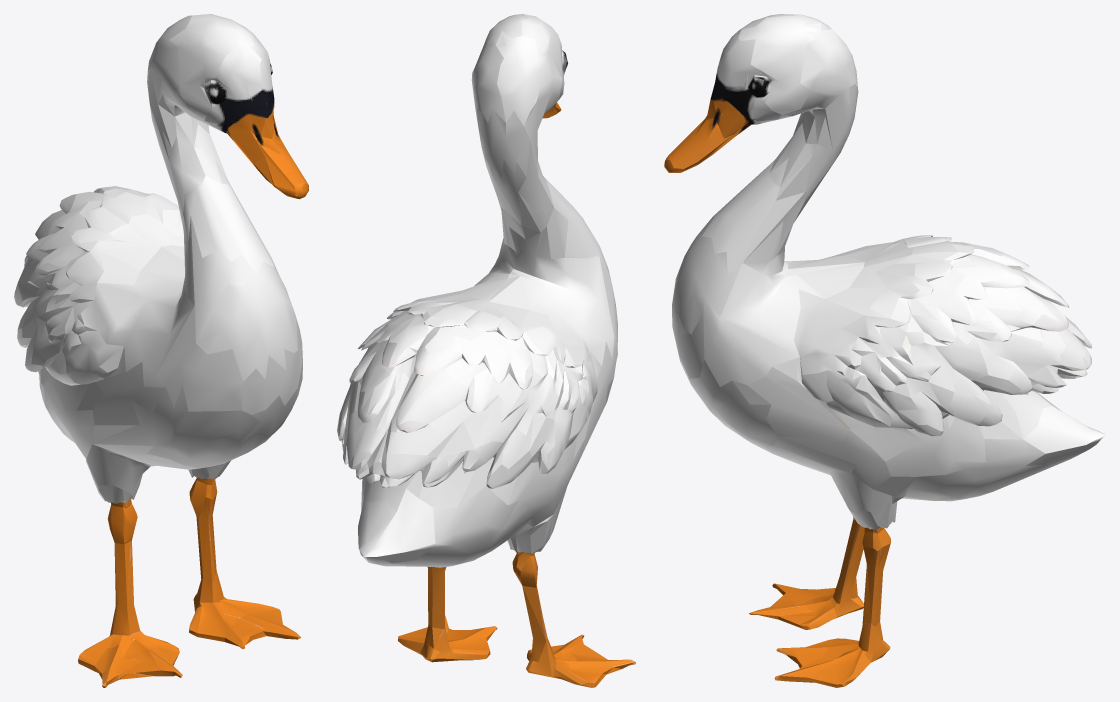
Rendered from swan.glb.
3 renders of one model, left to right at view 1: azimuth 30°, elevation 25°; view 2: azimuth 150°, elevation 25°; view 3: azimuth 270°, elevation 25°, orthographic. The views are drawn at different scales.
Size of the model in its own units: 0.6749 by 1.9 by 1.21.
Materials: 1 (1 with a texture image).
